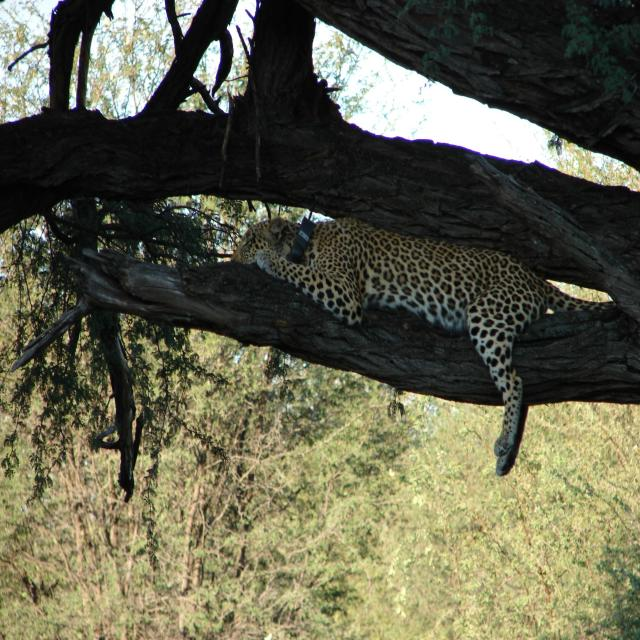Leopard: (233, 216, 622, 502)
